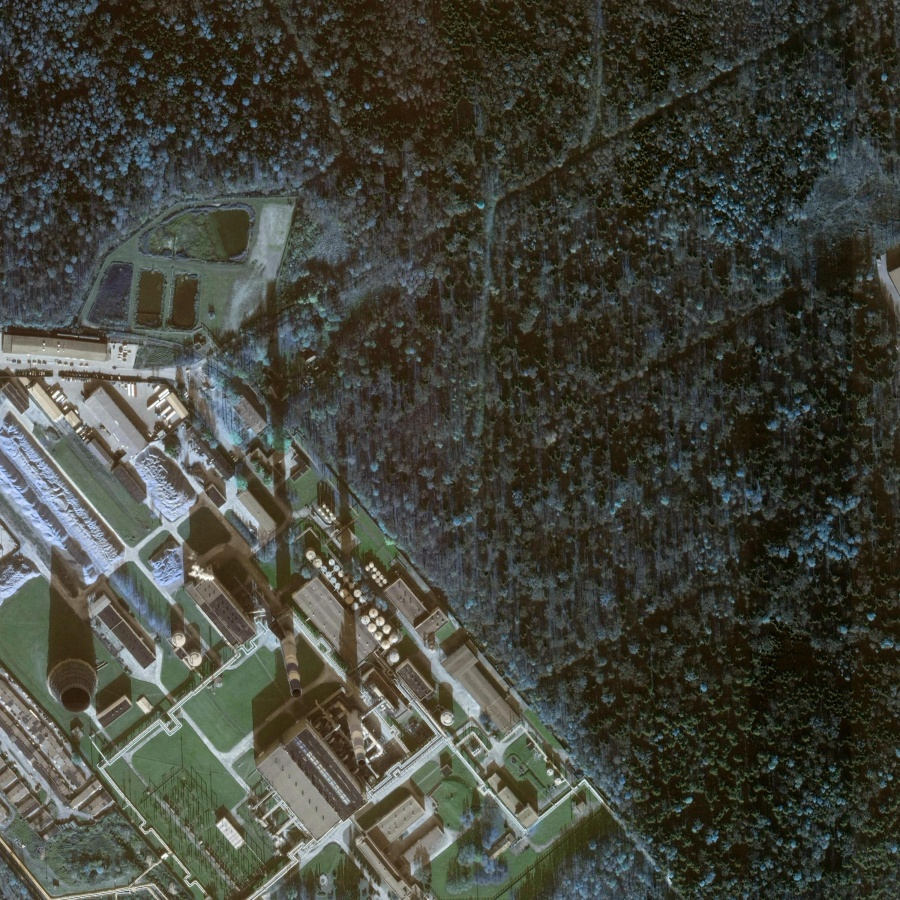PowerPlant: (22, 436, 558, 883)
